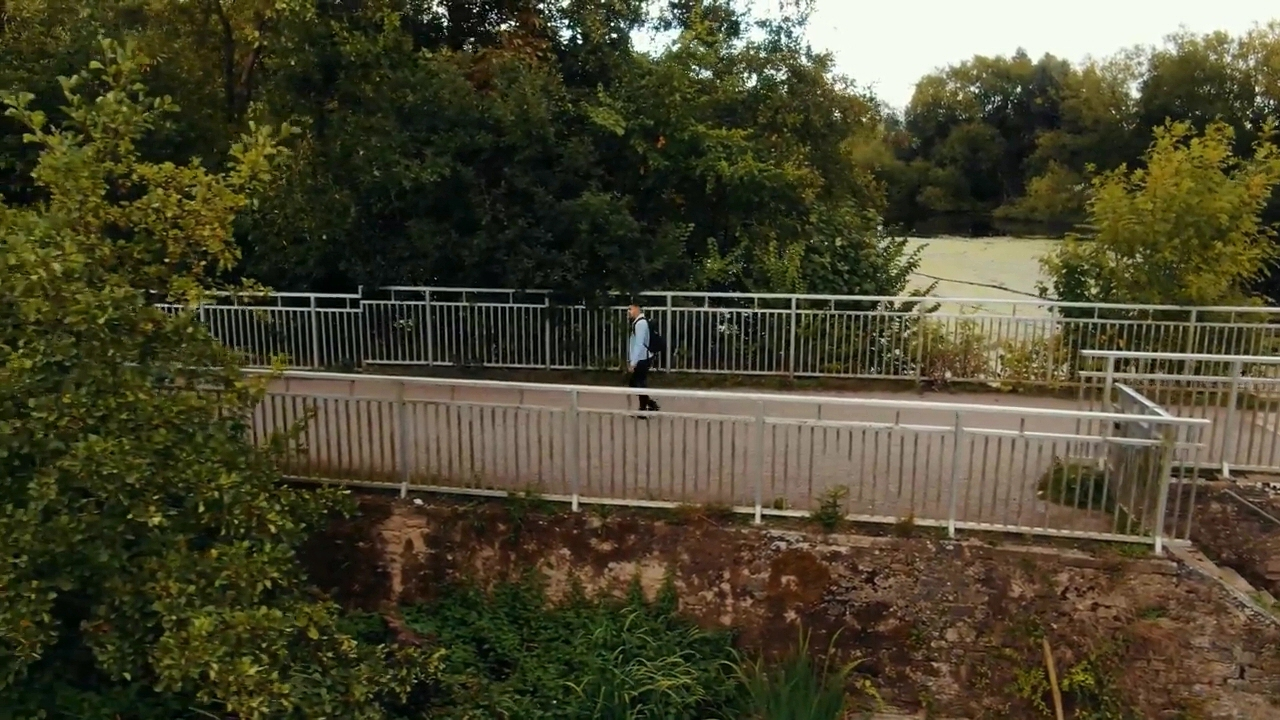insan: (624, 301, 670, 422)
